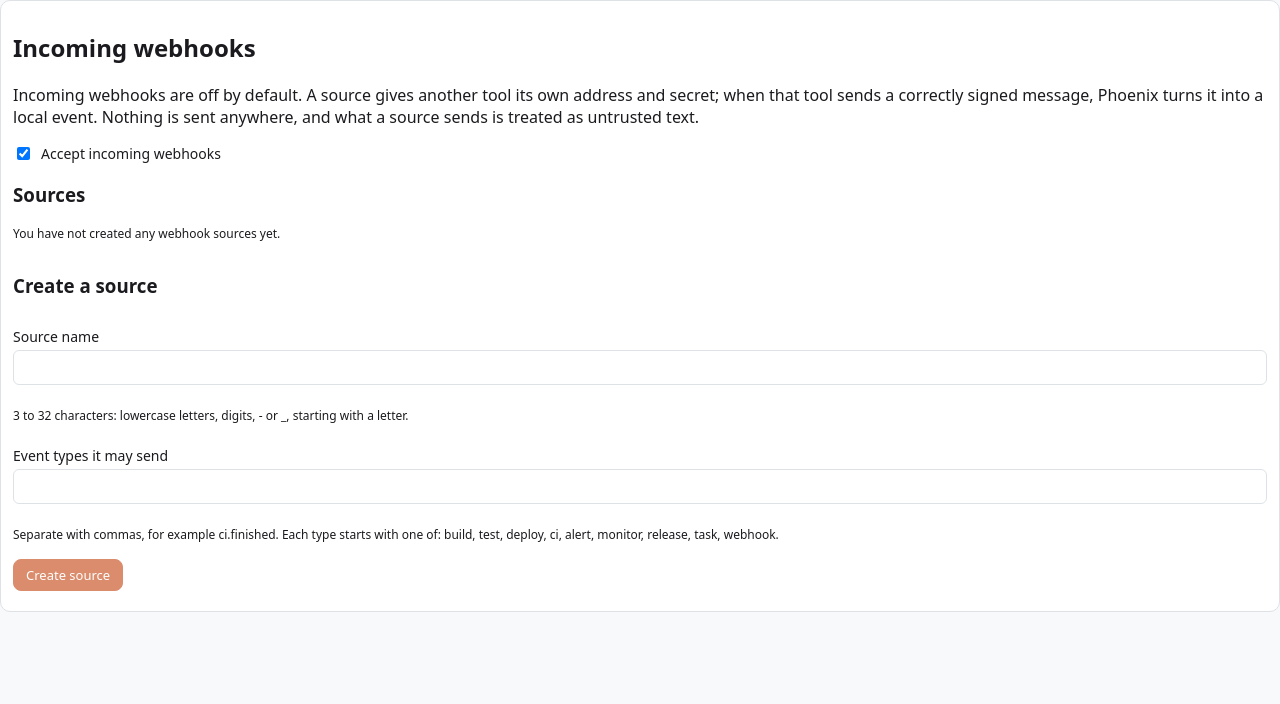
Test: incoming webhook sources settings › deleting the source whose secret is showing clears the secret
The image size is (1280, 704).
Expected: the text "You have not created any webhook sources yet." is shown, [13,225,280,242]
Step 1. Type "ci-main" into the field labelled "Source name" → [640, 367], box [13,350,1267,385]
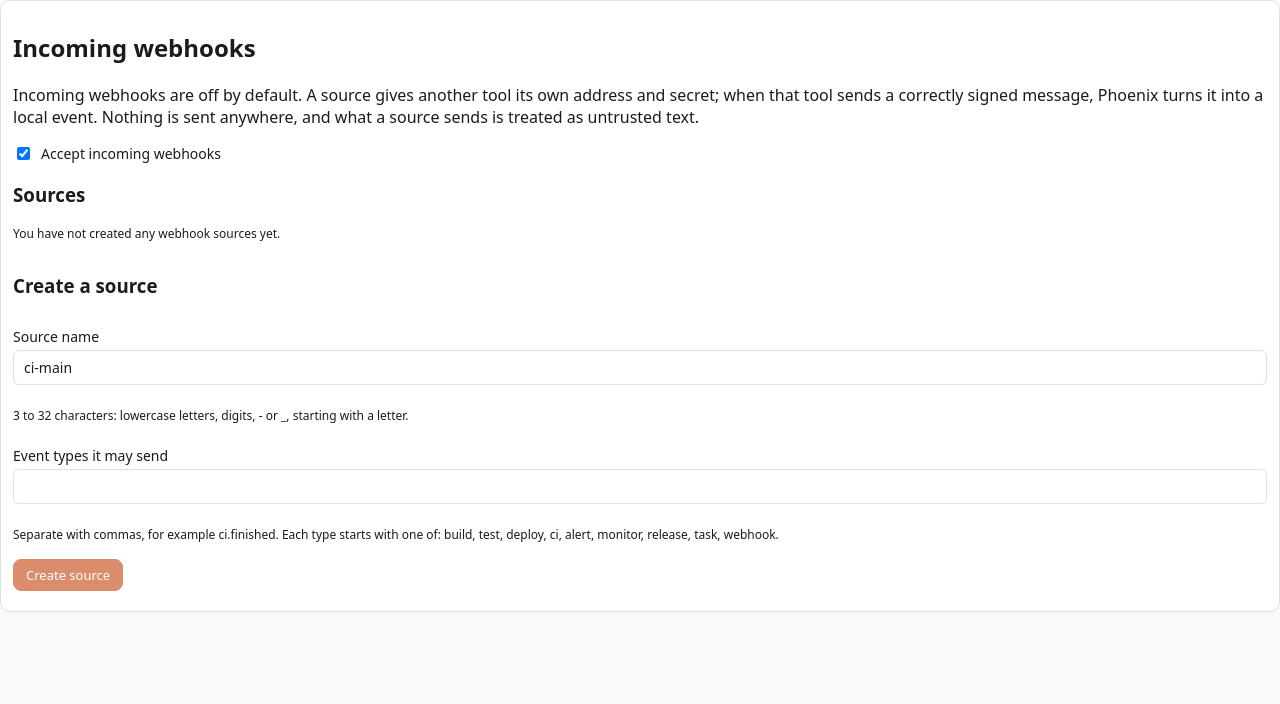
Step 2. Type "ci.finished" into the field labelled "Event types it may send" → [640, 486], box [13,469,1267,504]
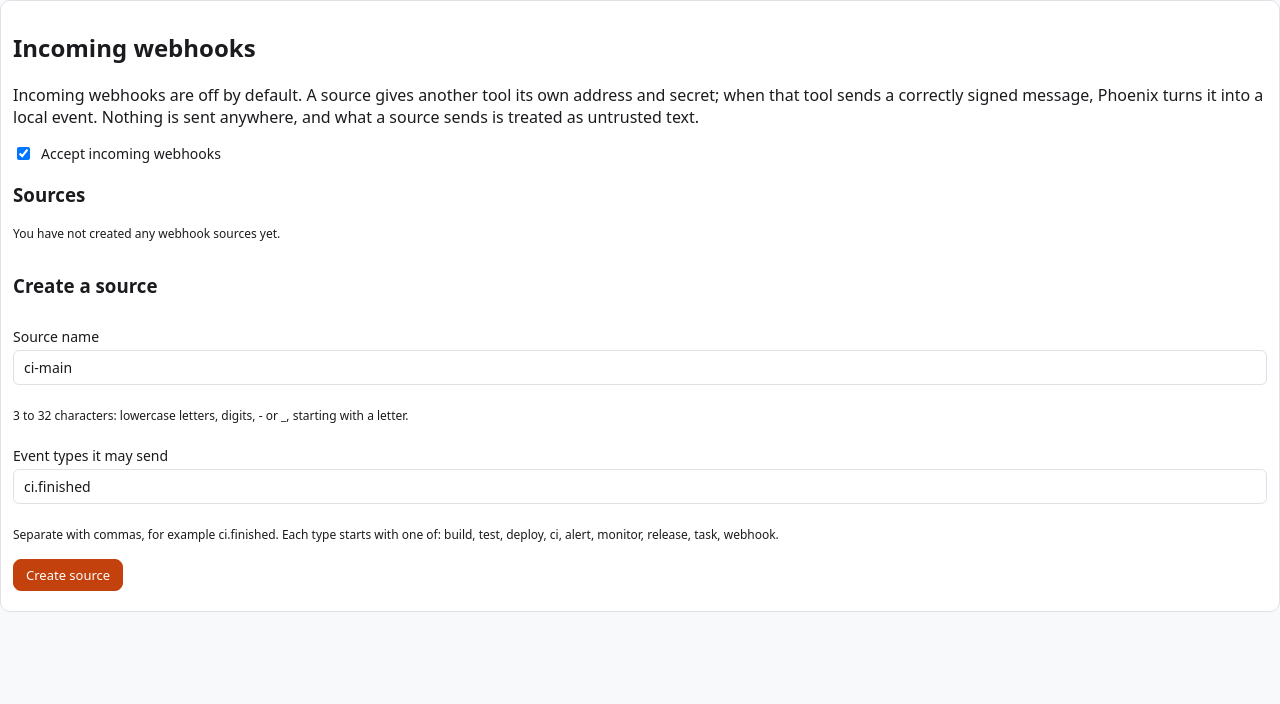
Step 3. Click the button "Create source" → [68, 575], box [13,559,123,591]
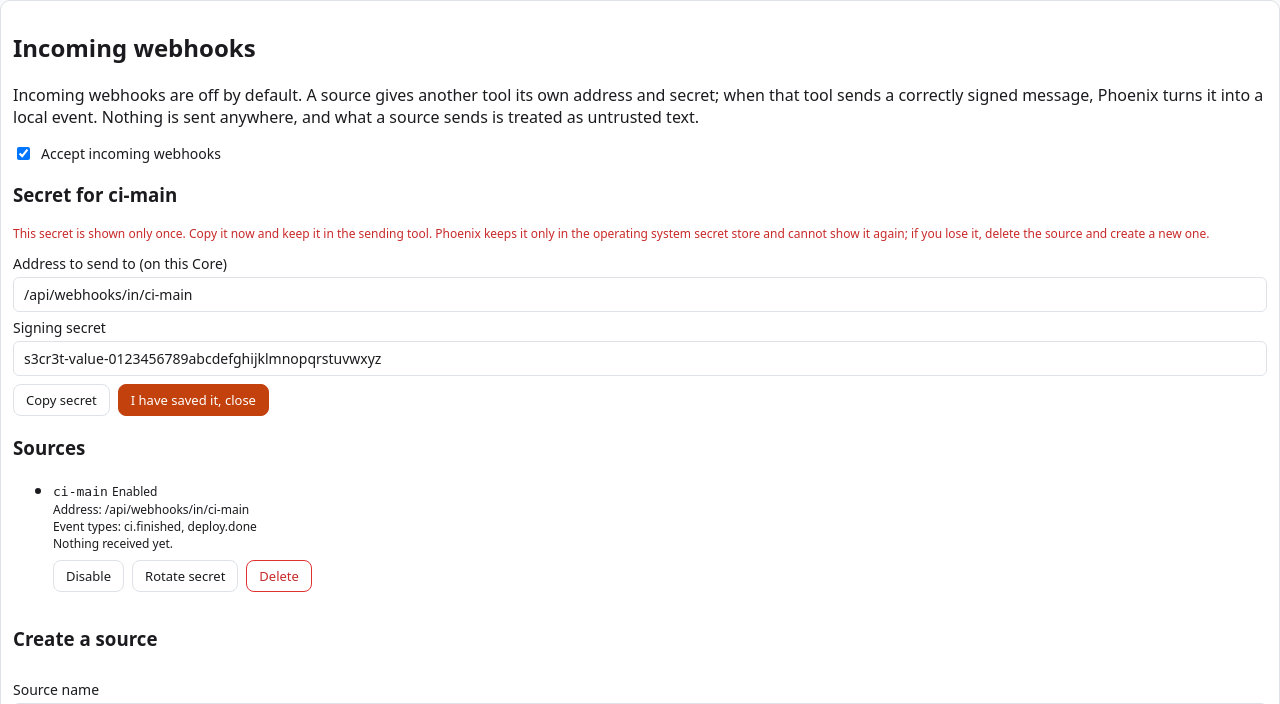
Expected: the field labelled "Signing secret" is shown, [13,341,1267,376]
Expected: the text "Address: /api/webhooks/in/ci-main" is shown, [53,501,249,518]
Step 4. Click the button with aria-label "Delete source ci-main" → [279, 576], box [246,560,312,592]
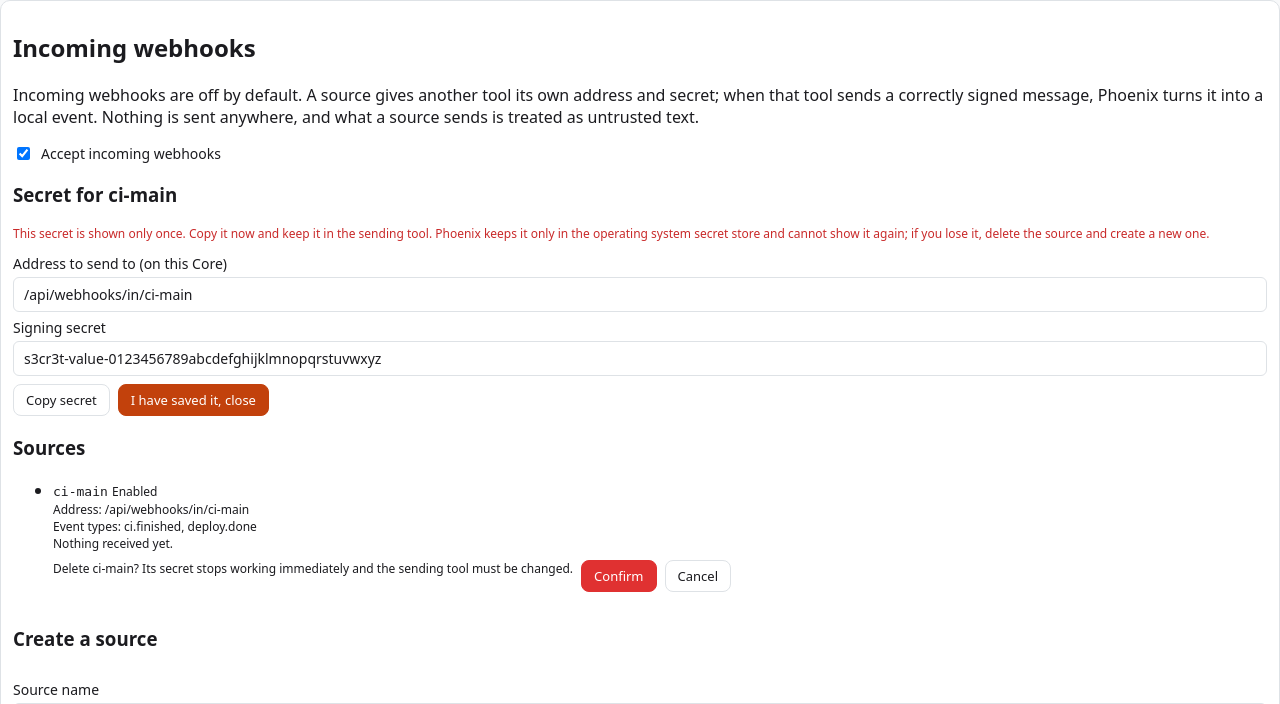
Step 5. Click the button "Confirm" → [619, 576], box [581,560,657,592]
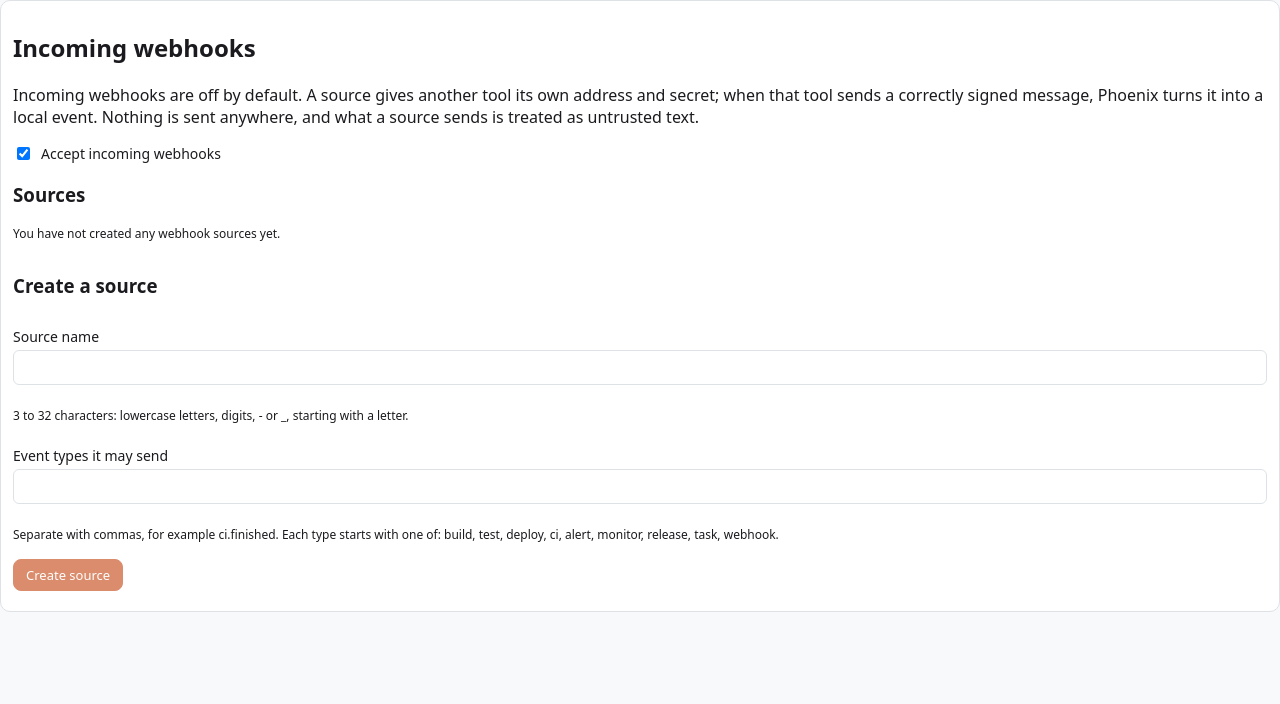
Expected: the text "s3cr3t-value-0123456789abcdefghijklmnopqrstuvwxyz" is not shown
Expected: the label labelled "Signing secret" is gone
